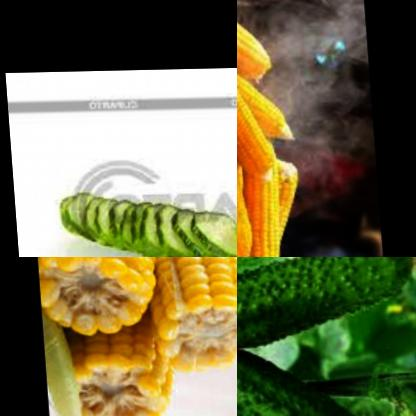corn: (44, 319, 172, 416), (139, 257, 237, 373), (24, 257, 164, 335), (237, 24, 279, 192), (237, 159, 309, 257), (237, 66, 295, 148), (237, 146, 278, 257), (237, 0, 275, 81), (237, 125, 253, 257)
cucumber: (237, 257, 416, 350), (237, 335, 416, 416), (45, 192, 237, 257)
